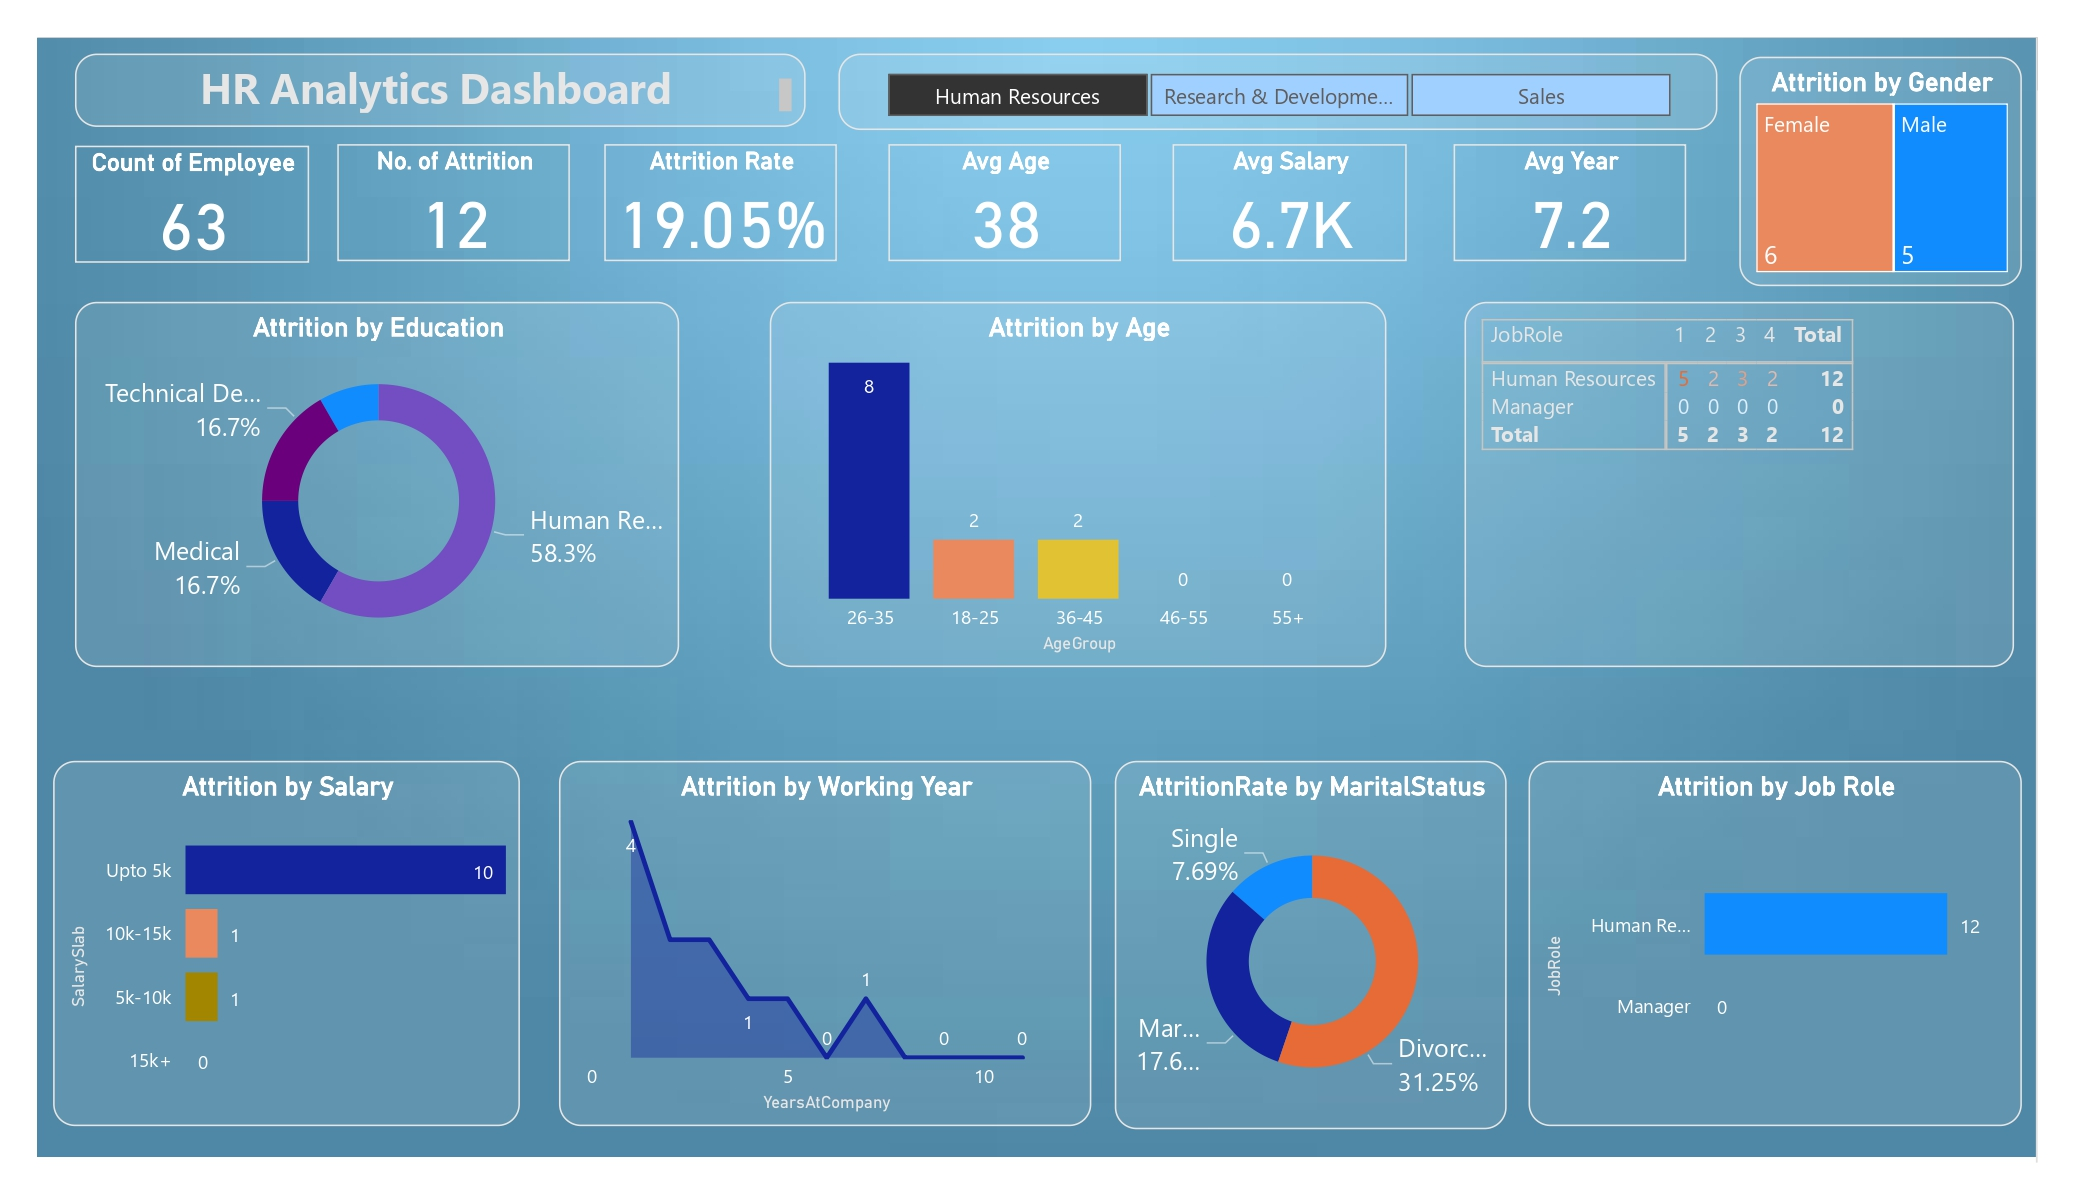

The dashboard page shown, as its layout file describes it:
{"tool":"powerbi","page":{"name":"Page 1","canvas":[1280,720],"ordinal":0},"visuals":[{"type":"card","title":"Count of Employee","fields":{"Values":["CountNonNull(HR_Analytics.EmpID)"]},"box":[24.1,68.7,149.5,74.8],"z":0},{"type":"card","title":"No. of Attrition","fields":{"Values":["Sum(HR_Analytics.AttritionCount)"]},"box":[191.5,68.3,149.5,74.8],"z":1000},{"type":"card","title":"Attrition Rate","fields":{"Values":["HR_Analytics.AttritionRate"]},"box":[362.8,68.3,149.5,74.8],"z":2000},{"type":"card","title":"Avg Age ","fields":{"Values":["Avg(HR_Analytics.Age)"]},"box":[544.9,68.3,149.5,74.8],"z":3000},{"type":"card","title":"Avg Salary","fields":{"Values":["Avg(HR_Analytics.MonthlyIncome)"]},"box":[727,68.3,149.5,74.8],"z":4000},{"type":"card","title":"Avg Year","fields":{"Values":["Avg(HR_Analytics.YearsAtCompany)"]},"box":[906.7,68.3,149.5,74.8],"z":5000},{"type":"donutChart","title":"Attrition by Education","fields":{"Category":["HR_Analytics.EducationField"],"Y":["Sum(HR_Analytics.AttritionCount)"]},"box":[10,180,387.1,234.3],"z":6000},{"type":"columnChart","title":"Attrition by Age","fields":{"Category":["HR_Analytics.AgeGroup"],"Y":["Sum(HR_Analytics.AttritionCount)"]},"box":[460,180,394.3,234.3],"z":7000},{"type":"pivotTable","fields":{"Rows":["HR_Analytics.JobRole"],"Columns":["HR_Analytics.JobSatisfaction"],"Values":["Sum(HR_Analytics.AttritionCount)"]},"box":[914.3,180,351.4,234.3],"z":8000},{"type":"barChart","title":"Attrition by Salary","fields":{"Category":["HR_Analytics.SalarySlab"],"Y":["Sum(HR_Analytics.AttritionCount)"]},"box":[9.6,463.1,299.1,234],"z":9000},{"type":"barChart","title":"Attrition by Job Role","fields":{"Y":["Sum(HR_Analytics.AttritionCount)"],"Category":["HR_Analytics.JobRole"]},"box":[955.2,463.1,316,234],"z":10000},{"type":"areaChart","title":"Attrition by Working Year","fields":{"Category":["HR_Analytics.YearsAtCompany"],"Y":["Sum(HR_Analytics.AttritionCount)"]},"box":[334.1,463.1,341.3,234],"z":11000},{"type":"treemap","title":"Attrition by Gender","fields":{"Group":["HR_Analytics.Gender"],"Values":["Sum(HR_Analytics.AttritionCount)"]},"box":[1090.3,12.1,180.9,147.1],"z":12000},{"type":"slicer","fields":{"Values":["HR_Analytics.Department"]},"box":[512.6,9.6,563.2,49.4],"z":13000},{"type":"textbox","box":[24.1,9.6,467.9,47],"z":14000},{"type":"donutChart","title":"AttritionRate by MaritalStatus","fields":{"Y":["HR_Analytics.AttritionRate"],"Category":["HR_Analytics.MaritalStatus"]},"box":[689.8,463.1,250.9,236.4],"z":15000}]}

Visuals, with their boxes in screenshot pixels (x1, y1, x2, y2):
"Count of Employee" card: (75,145,309,262)
"No. of Attrition" card: (337,144,570,261)
"Attrition Rate" card: (604,144,838,261)
"Avg Age " card: (889,144,1122,261)
"Avg Salary" card: (1173,144,1407,261)
"Avg Year" card: (1454,144,1688,261)
"Attrition by Education" donutChart: (53,319,658,685)
"Attrition by Age" columnChart: (756,319,1372,685)
pivotTable - HR_Analytics.JobRole x HR_Analytics.JobSatisfaction: (1466,319,2015,685)
"Attrition by Salary" barChart: (52,761,520,1127)
"Attrition by Job Role" barChart: (1530,761,2024,1127)
"Attrition by Working Year" areaChart: (560,761,1093,1127)
"Attrition by Gender" treemap: (1741,56,2024,286)
slicer - HR_Analytics.Department: (838,52,1718,130)
textbox: (75,52,806,126)
"AttritionRate by MaritalStatus" donutChart: (1115,761,1507,1130)
